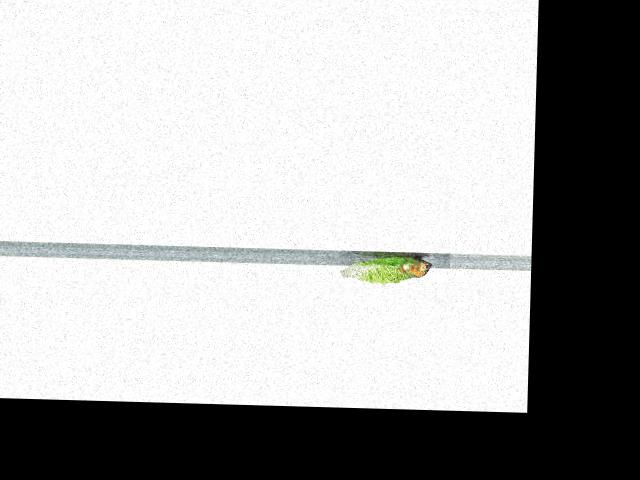lettuce: (338, 250, 435, 288)
